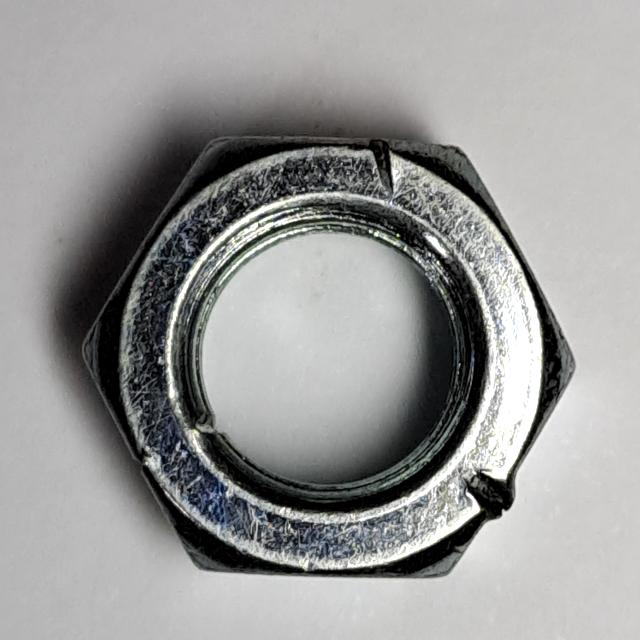Scratches: (66, 121, 590, 598)
